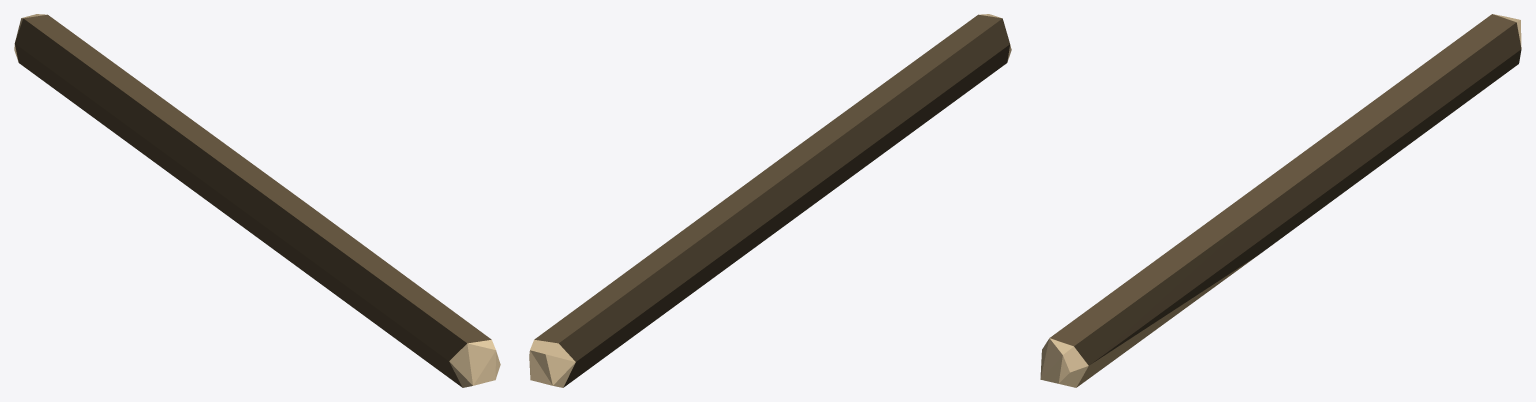
File: EA03_Village_Hut_Wall_Desk_02a.glb
3 views of the same model, side by side, from view 1: azimuth 30°, elevation 25°; view 2: azimuth 150°, elevation 25°; view 3: azimuth 330°, elevation 25° (orthographic).
Parts seen in each view (by area): view 1: EA03_Village_Hut_Wall_Desk_02a; view 2: EA03_Village_Hut_Wall_Desk_02a; view 3: EA03_Village_Hut_Wall_Desk_02a.
Boxes of the visible parts, box(x1,y1,x2,y2) form: EA03_Village_Hut_Wall_Desk_02a: box(14, 14, 500, 387); EA03_Village_Hut_Wall_Desk_02a: box(529, 14, 1011, 387); EA03_Village_Hut_Wall_Desk_02a: box(1040, 14, 1521, 387).
Bounding box in the file's own units: 0.4951 × 0.4412 × 8.52.
1 material, 1 textured.
